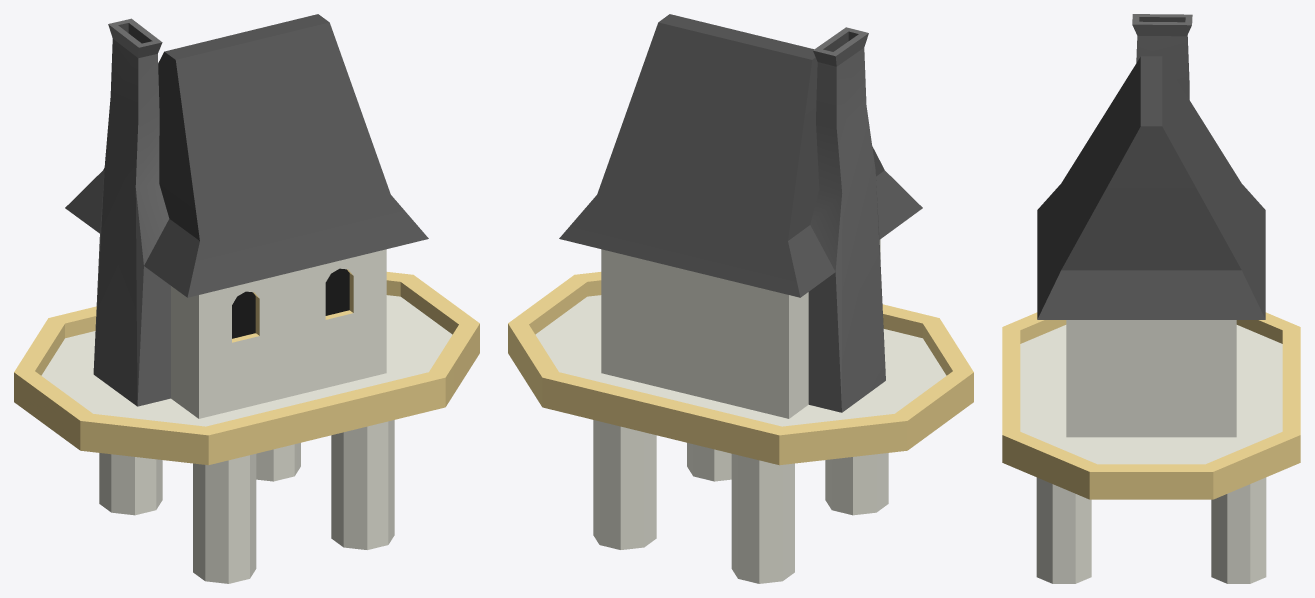
Rendered from Building_Castle_Platform_Building_02.fbx.
The picture shows the model from 3 angles, left to right: view 1: azimuth 30°, elevation 25°; view 2: azimuth 150°, elevation 25°; view 3: azimuth 270°, elevation 25°; orthographic projection. The views are drawn at different scales.
Parts seen in each view (by area): view 1: Building_Castle_Platform_Building_02; view 2: Building_Castle_Platform_Building_02; view 3: Building_Castle_Platform_Building_02.
Part boxes in pixels (left/top/right/bottom): Building_Castle_Platform_Building_02: left=14, top=14, right=479, bottom=583; Building_Castle_Platform_Building_02: left=508, top=14, right=973, bottom=583; Building_Castle_Platform_Building_02: left=1002, top=14, right=1300, bottom=583.
Bounding box in the file's own units: 349 × 424 × 243.
